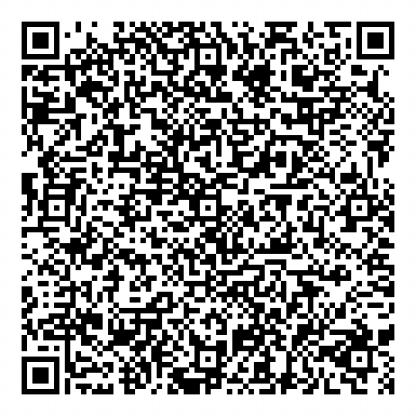qr: (16, 18, 401, 400)
